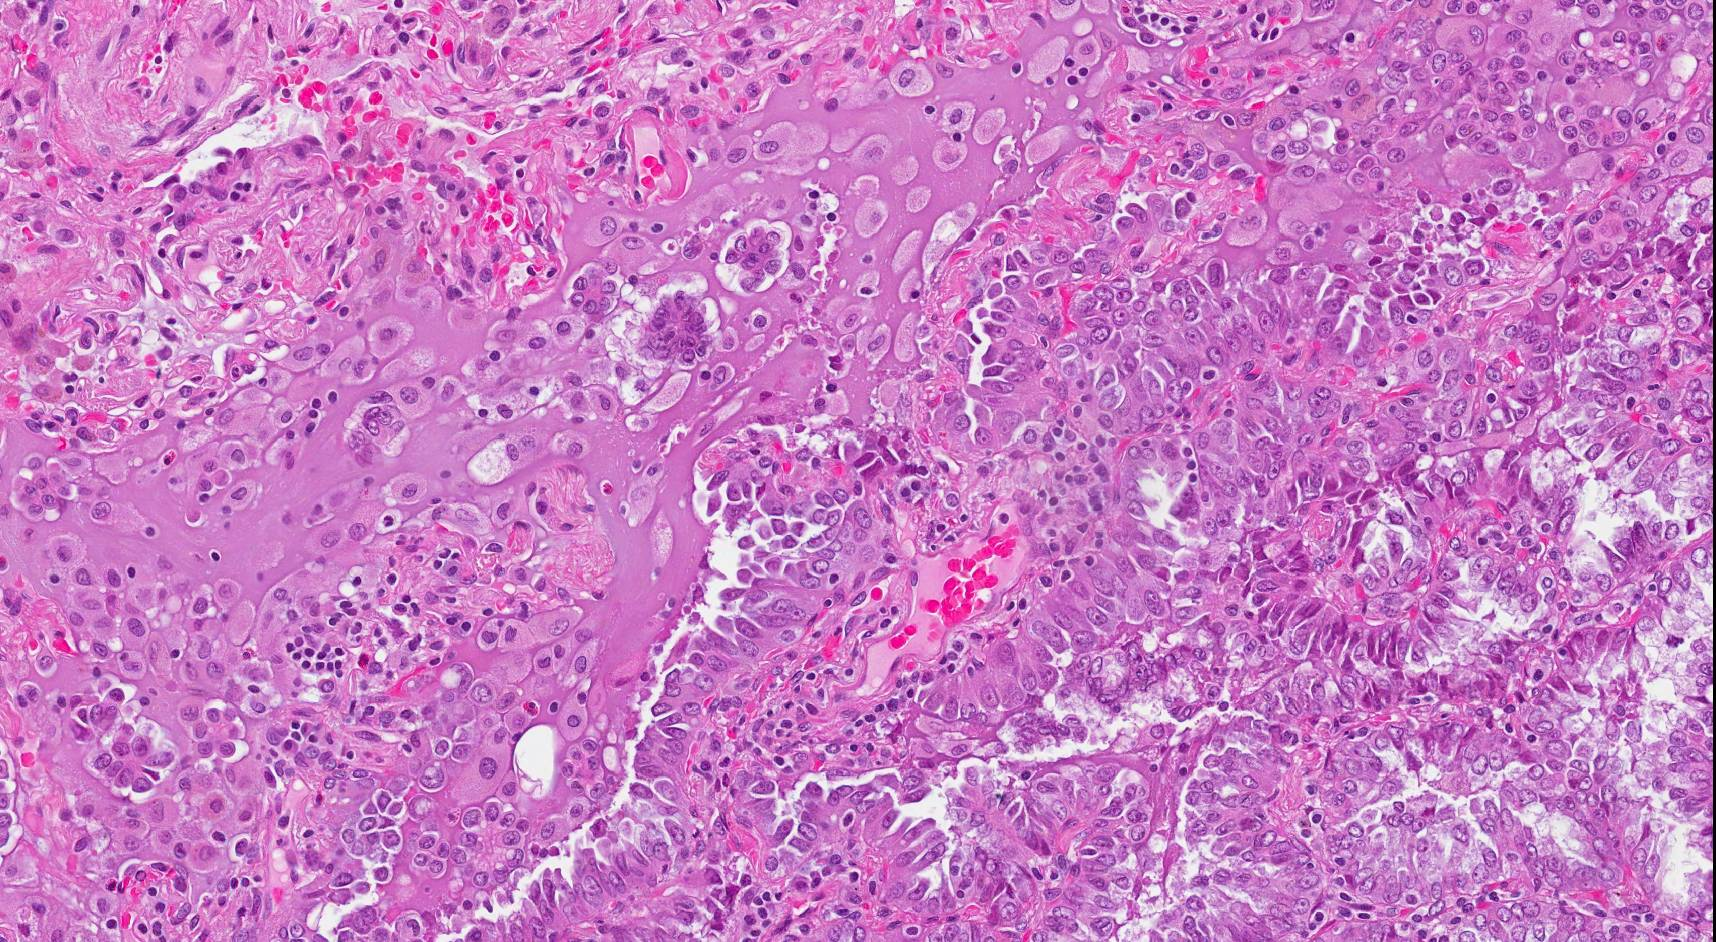stas: (72, 696, 175, 800), (638, 292, 710, 362), (720, 224, 788, 290), (9, 456, 74, 521), (191, 704, 244, 766), (568, 266, 619, 315)
